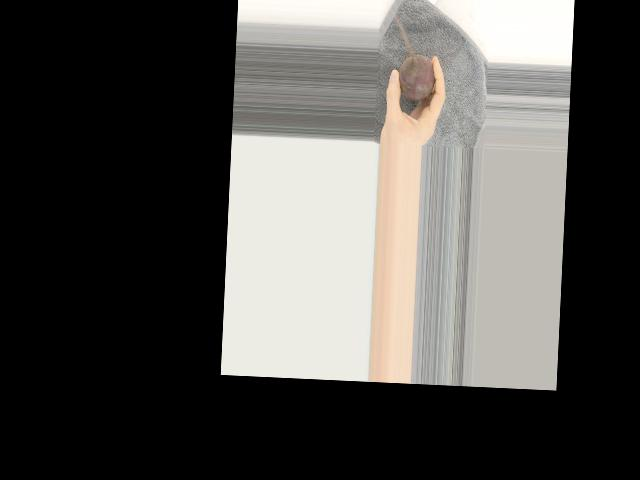beet: (397, 54, 435, 101)
